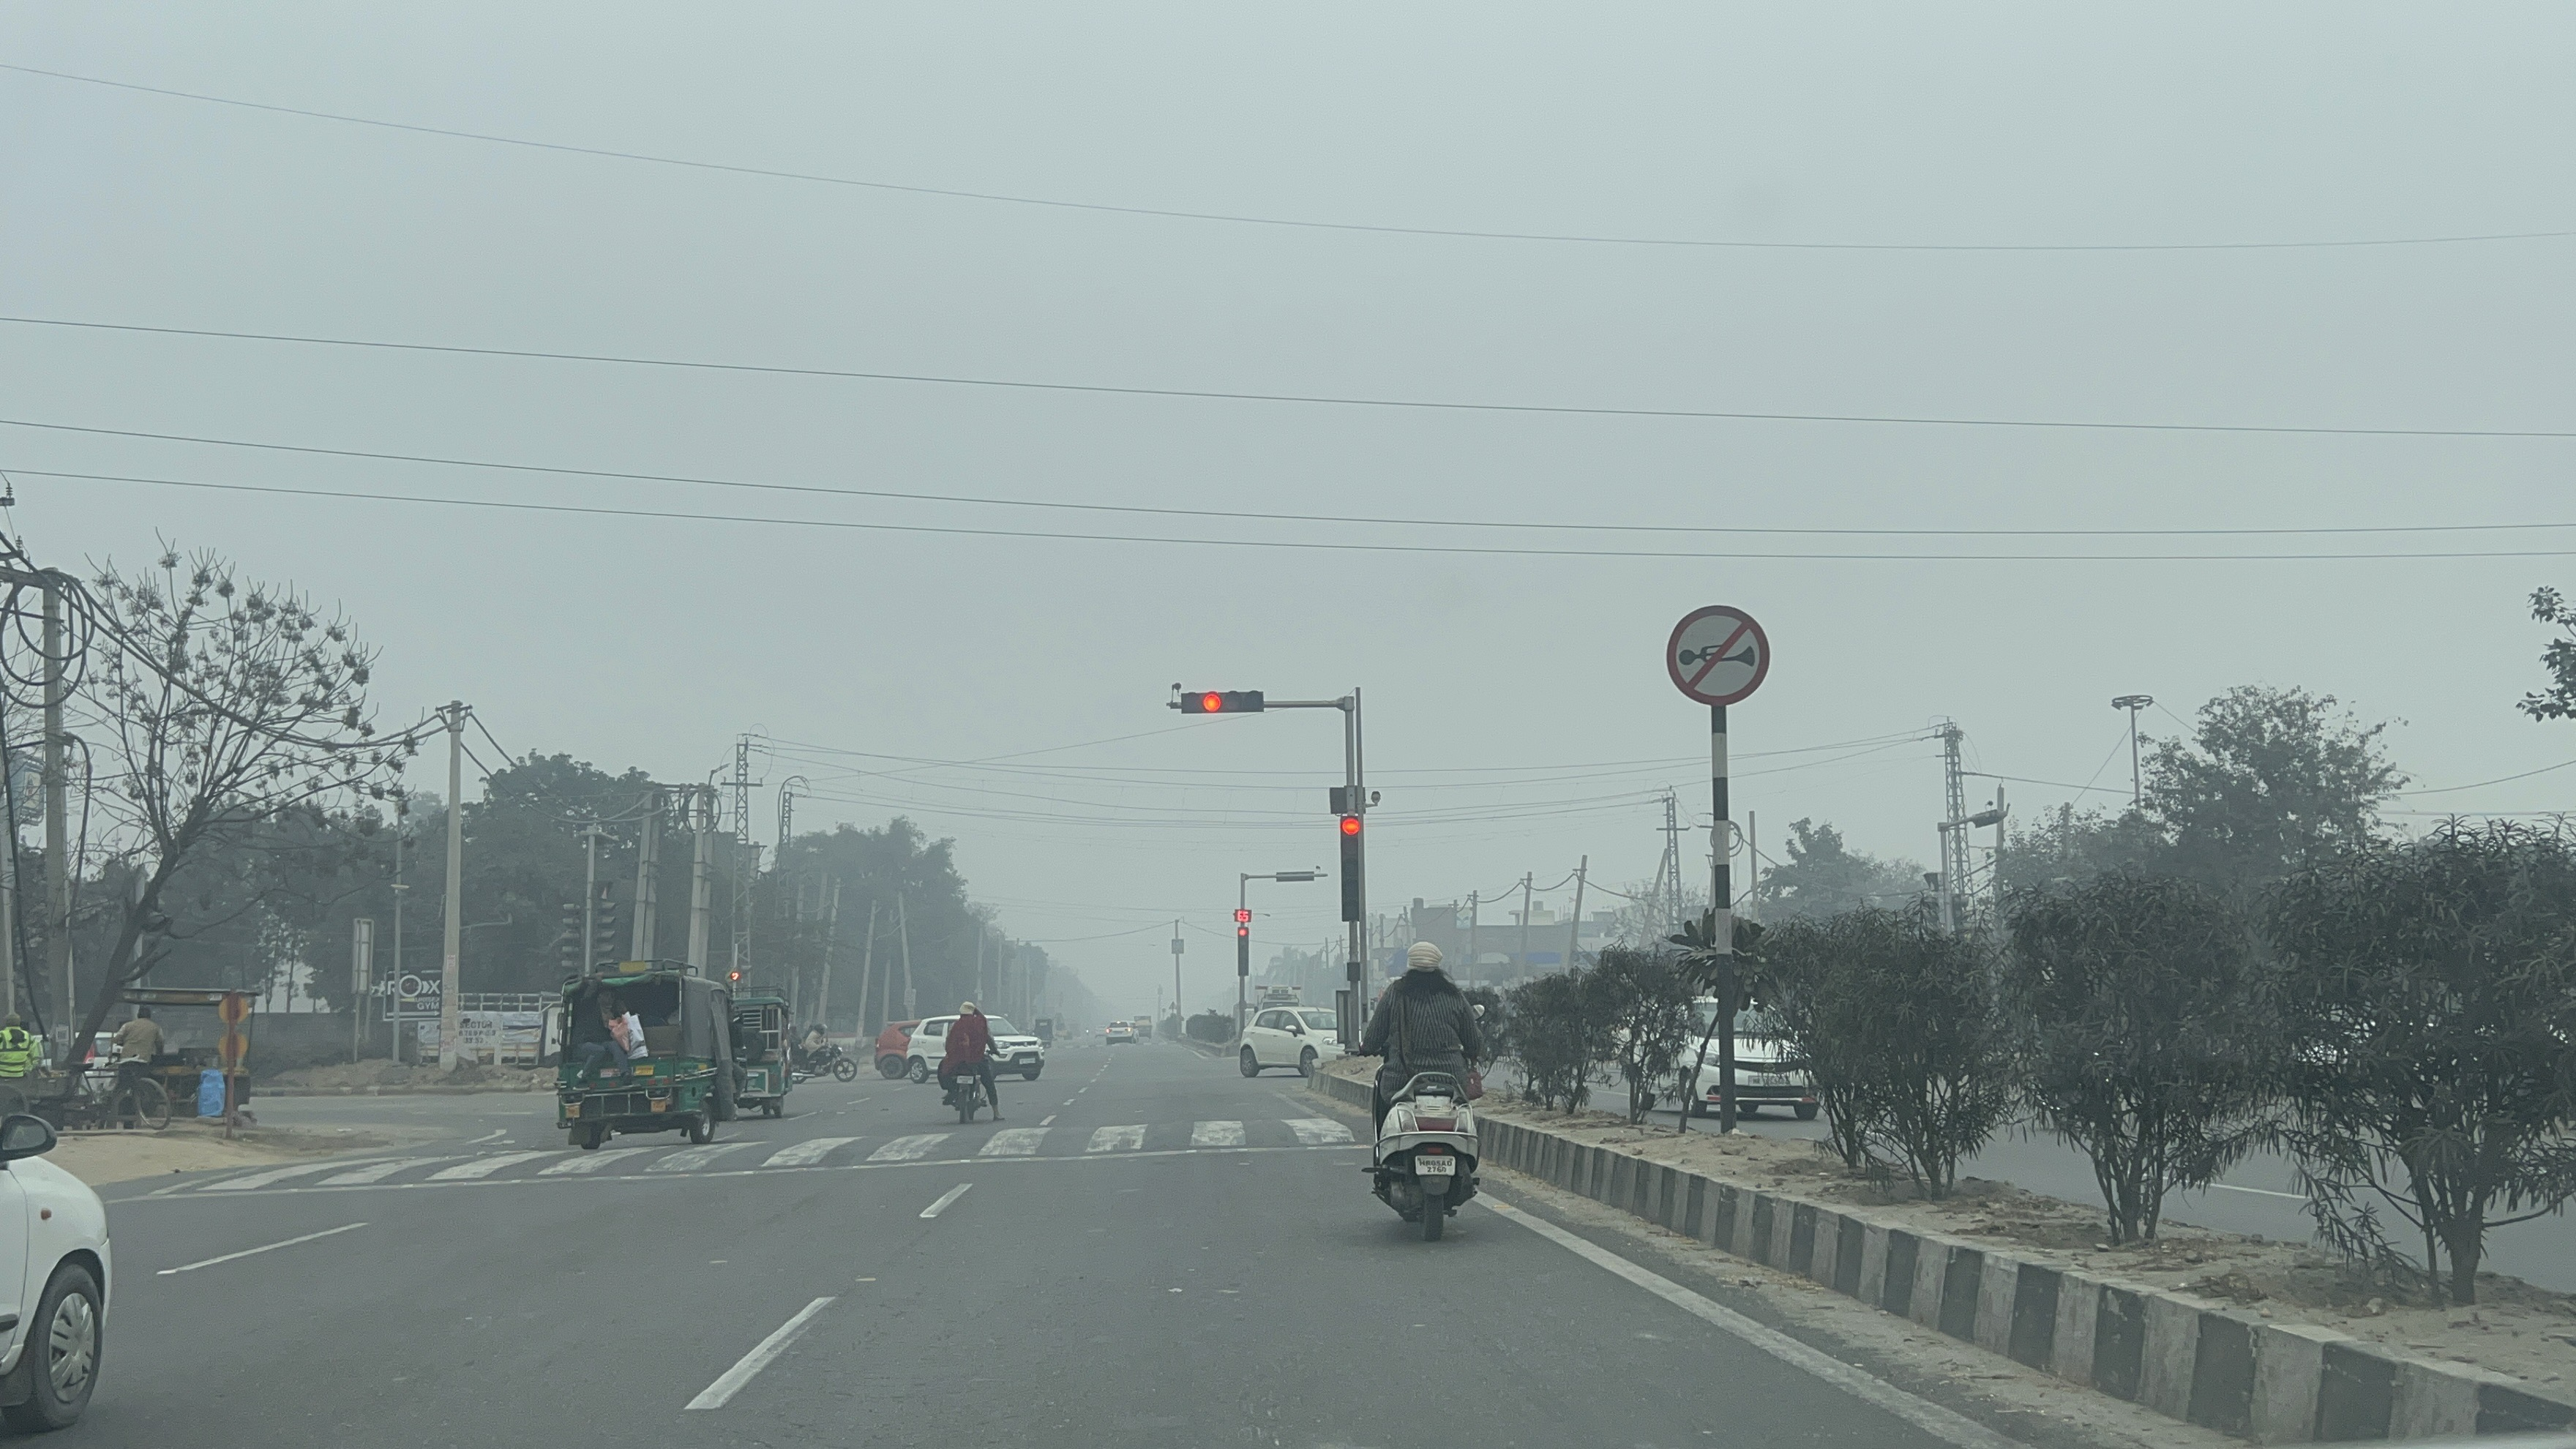Mandatory: (1652, 586, 1778, 718)
